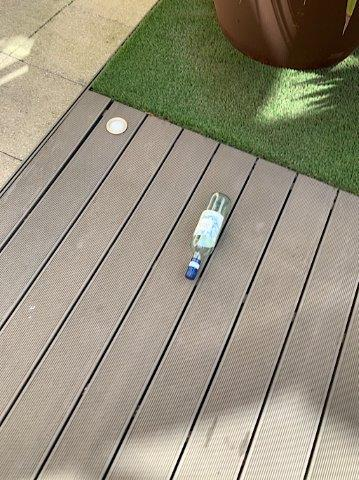botolkaca: (184, 194, 232, 280)
